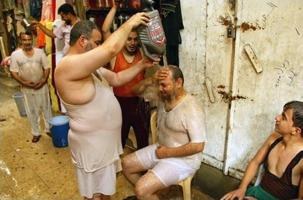person: (54, 11, 160, 200)
